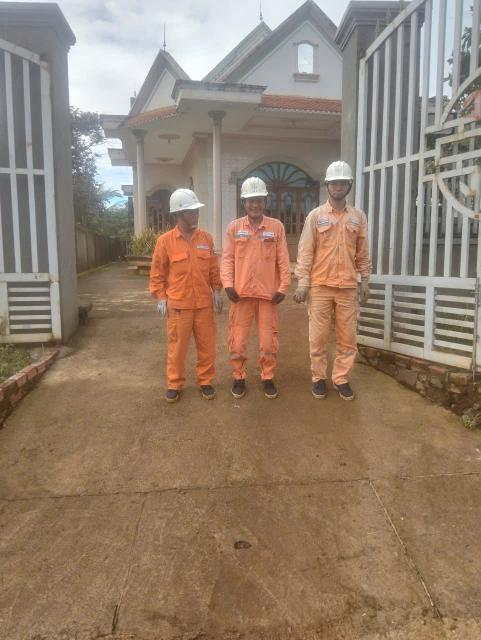gloves: (148, 286, 182, 322), (267, 278, 296, 315), (353, 275, 382, 305), (292, 274, 317, 308), (221, 282, 249, 310), (206, 280, 224, 322)
helmet: (167, 181, 208, 222), (321, 157, 360, 188), (238, 174, 271, 206)
shoes: (305, 369, 334, 401), (337, 371, 359, 405), (260, 368, 281, 402), (162, 373, 184, 405), (227, 374, 249, 402), (197, 376, 219, 402)
